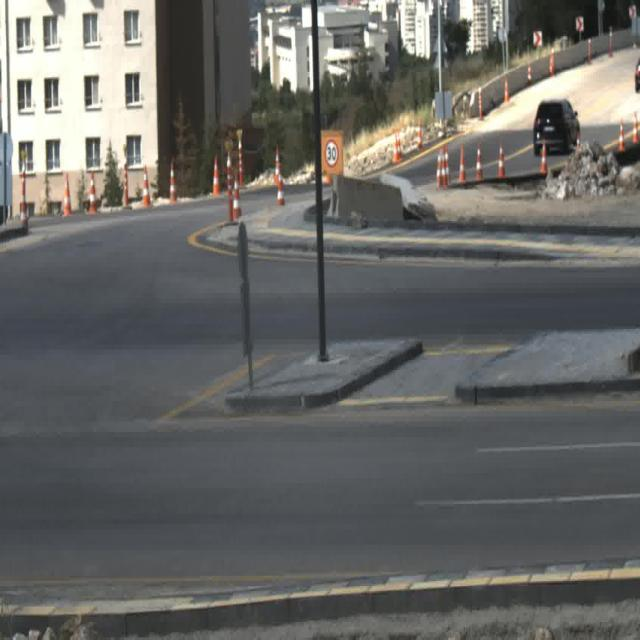Car: (534, 99, 581, 152)
